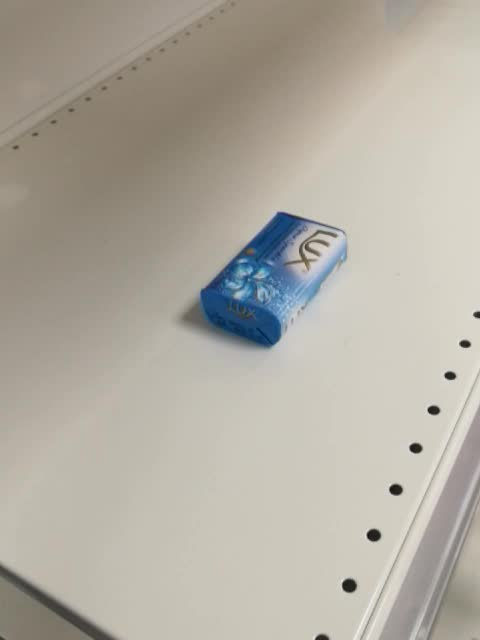soap: (200, 210, 350, 347)
